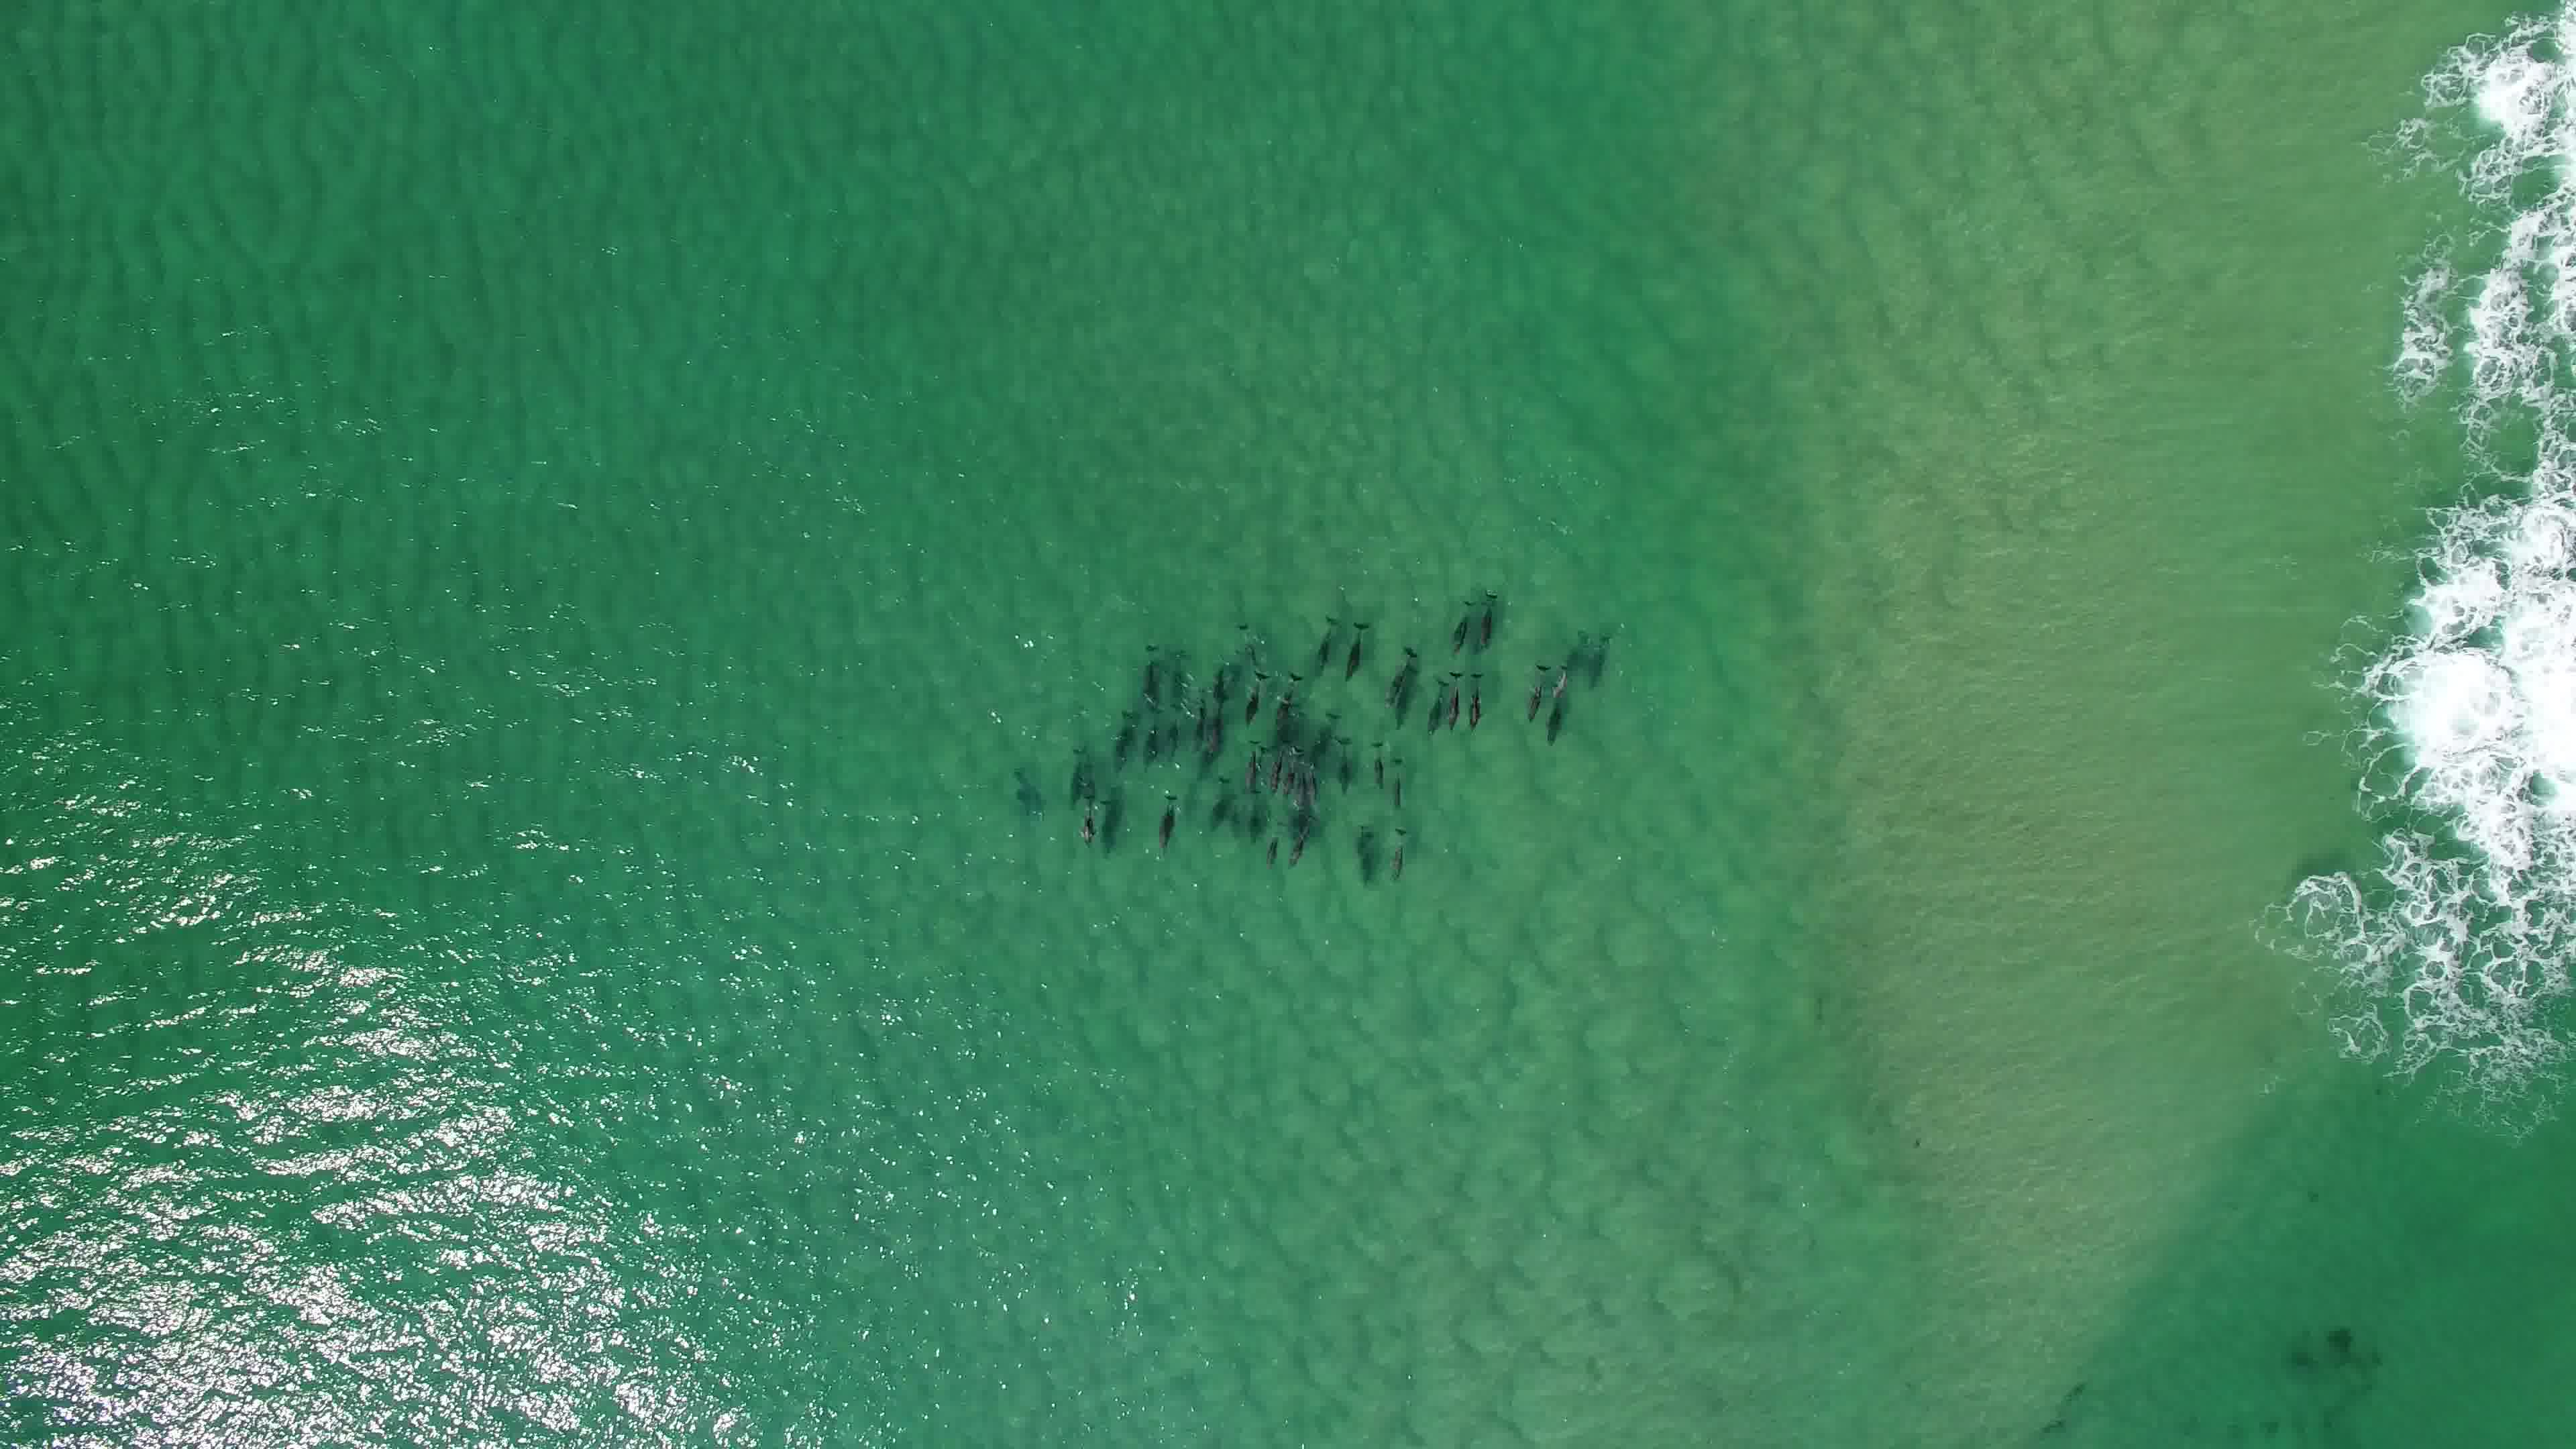dolphin: (1414, 660, 1458, 741), (1380, 639, 1424, 717), (1334, 610, 1375, 688), (1378, 823, 1422, 893), (1281, 807, 1327, 874), (1435, 663, 1474, 731), (1468, 582, 1504, 653), (1327, 727, 1364, 794), (1235, 660, 1272, 727), (1440, 586, 1476, 653), (1313, 603, 1346, 674), (1150, 787, 1182, 862), (1518, 660, 1557, 717), (1461, 662, 1491, 731), (1361, 738, 1398, 793), (1072, 787, 1104, 847), (1277, 669, 1302, 740), (1136, 639, 1166, 692), (1545, 656, 1578, 702), (1260, 812, 1284, 872), (1238, 741, 1265, 794), (1279, 738, 1302, 798), (1203, 699, 1226, 755), (1263, 740, 1284, 796)
